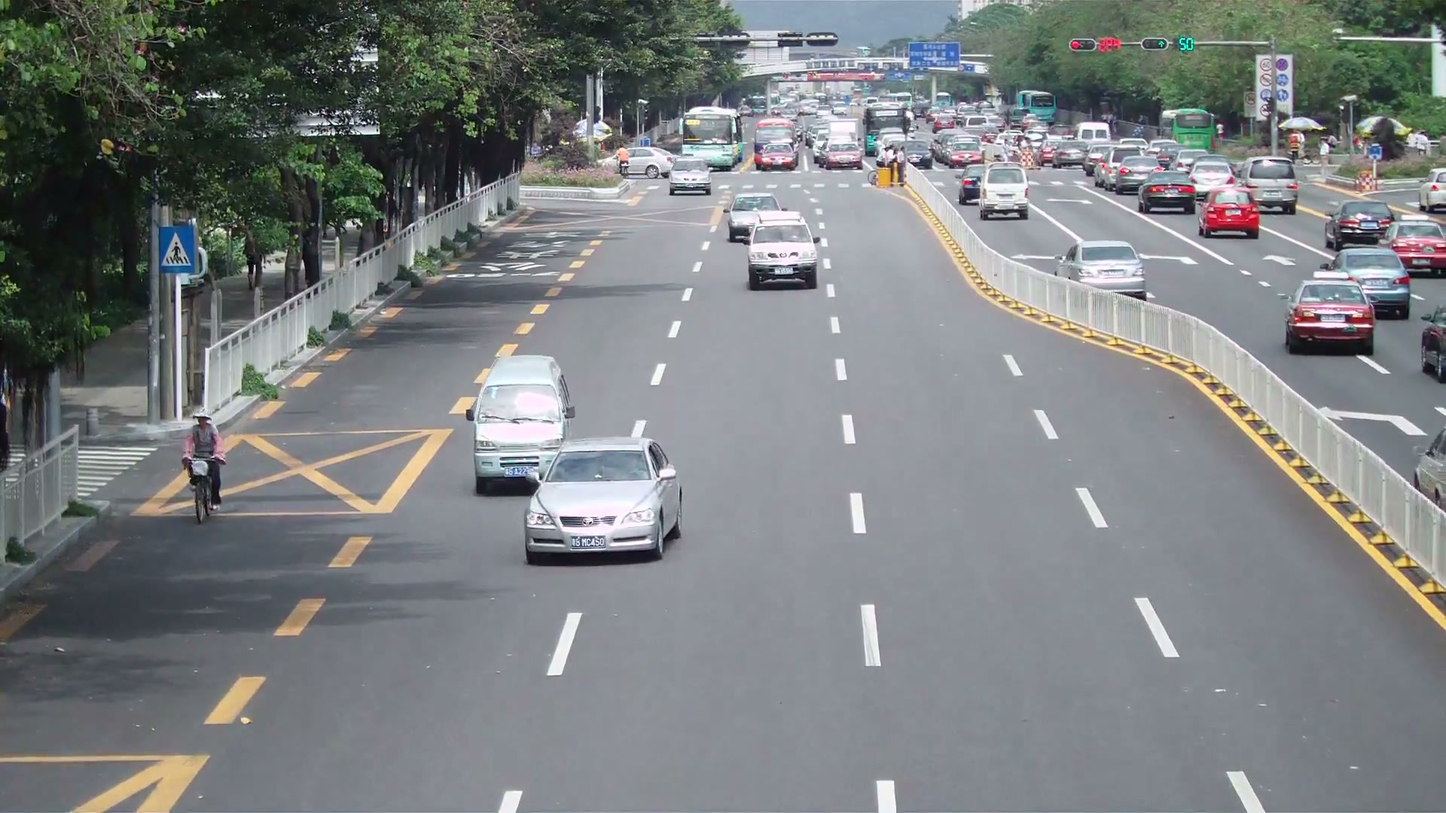bus: (681, 105, 741, 170)
car: (522, 436, 685, 565), (471, 354, 574, 494), (1283, 275, 1377, 355), (744, 213, 818, 290), (1339, 246, 1412, 320), (1059, 238, 1147, 292), (1322, 200, 1396, 254), (1382, 219, 1446, 276), (1238, 157, 1300, 214), (725, 191, 788, 242), (1198, 187, 1260, 238), (978, 165, 1030, 220), (1137, 174, 1197, 215), (624, 148, 673, 180), (668, 162, 712, 196), (1420, 169, 1446, 211)
pedestrian: (181, 412, 228, 510)
truck: (978, 164, 1029, 220), (821, 113, 865, 170), (754, 126, 800, 171)
